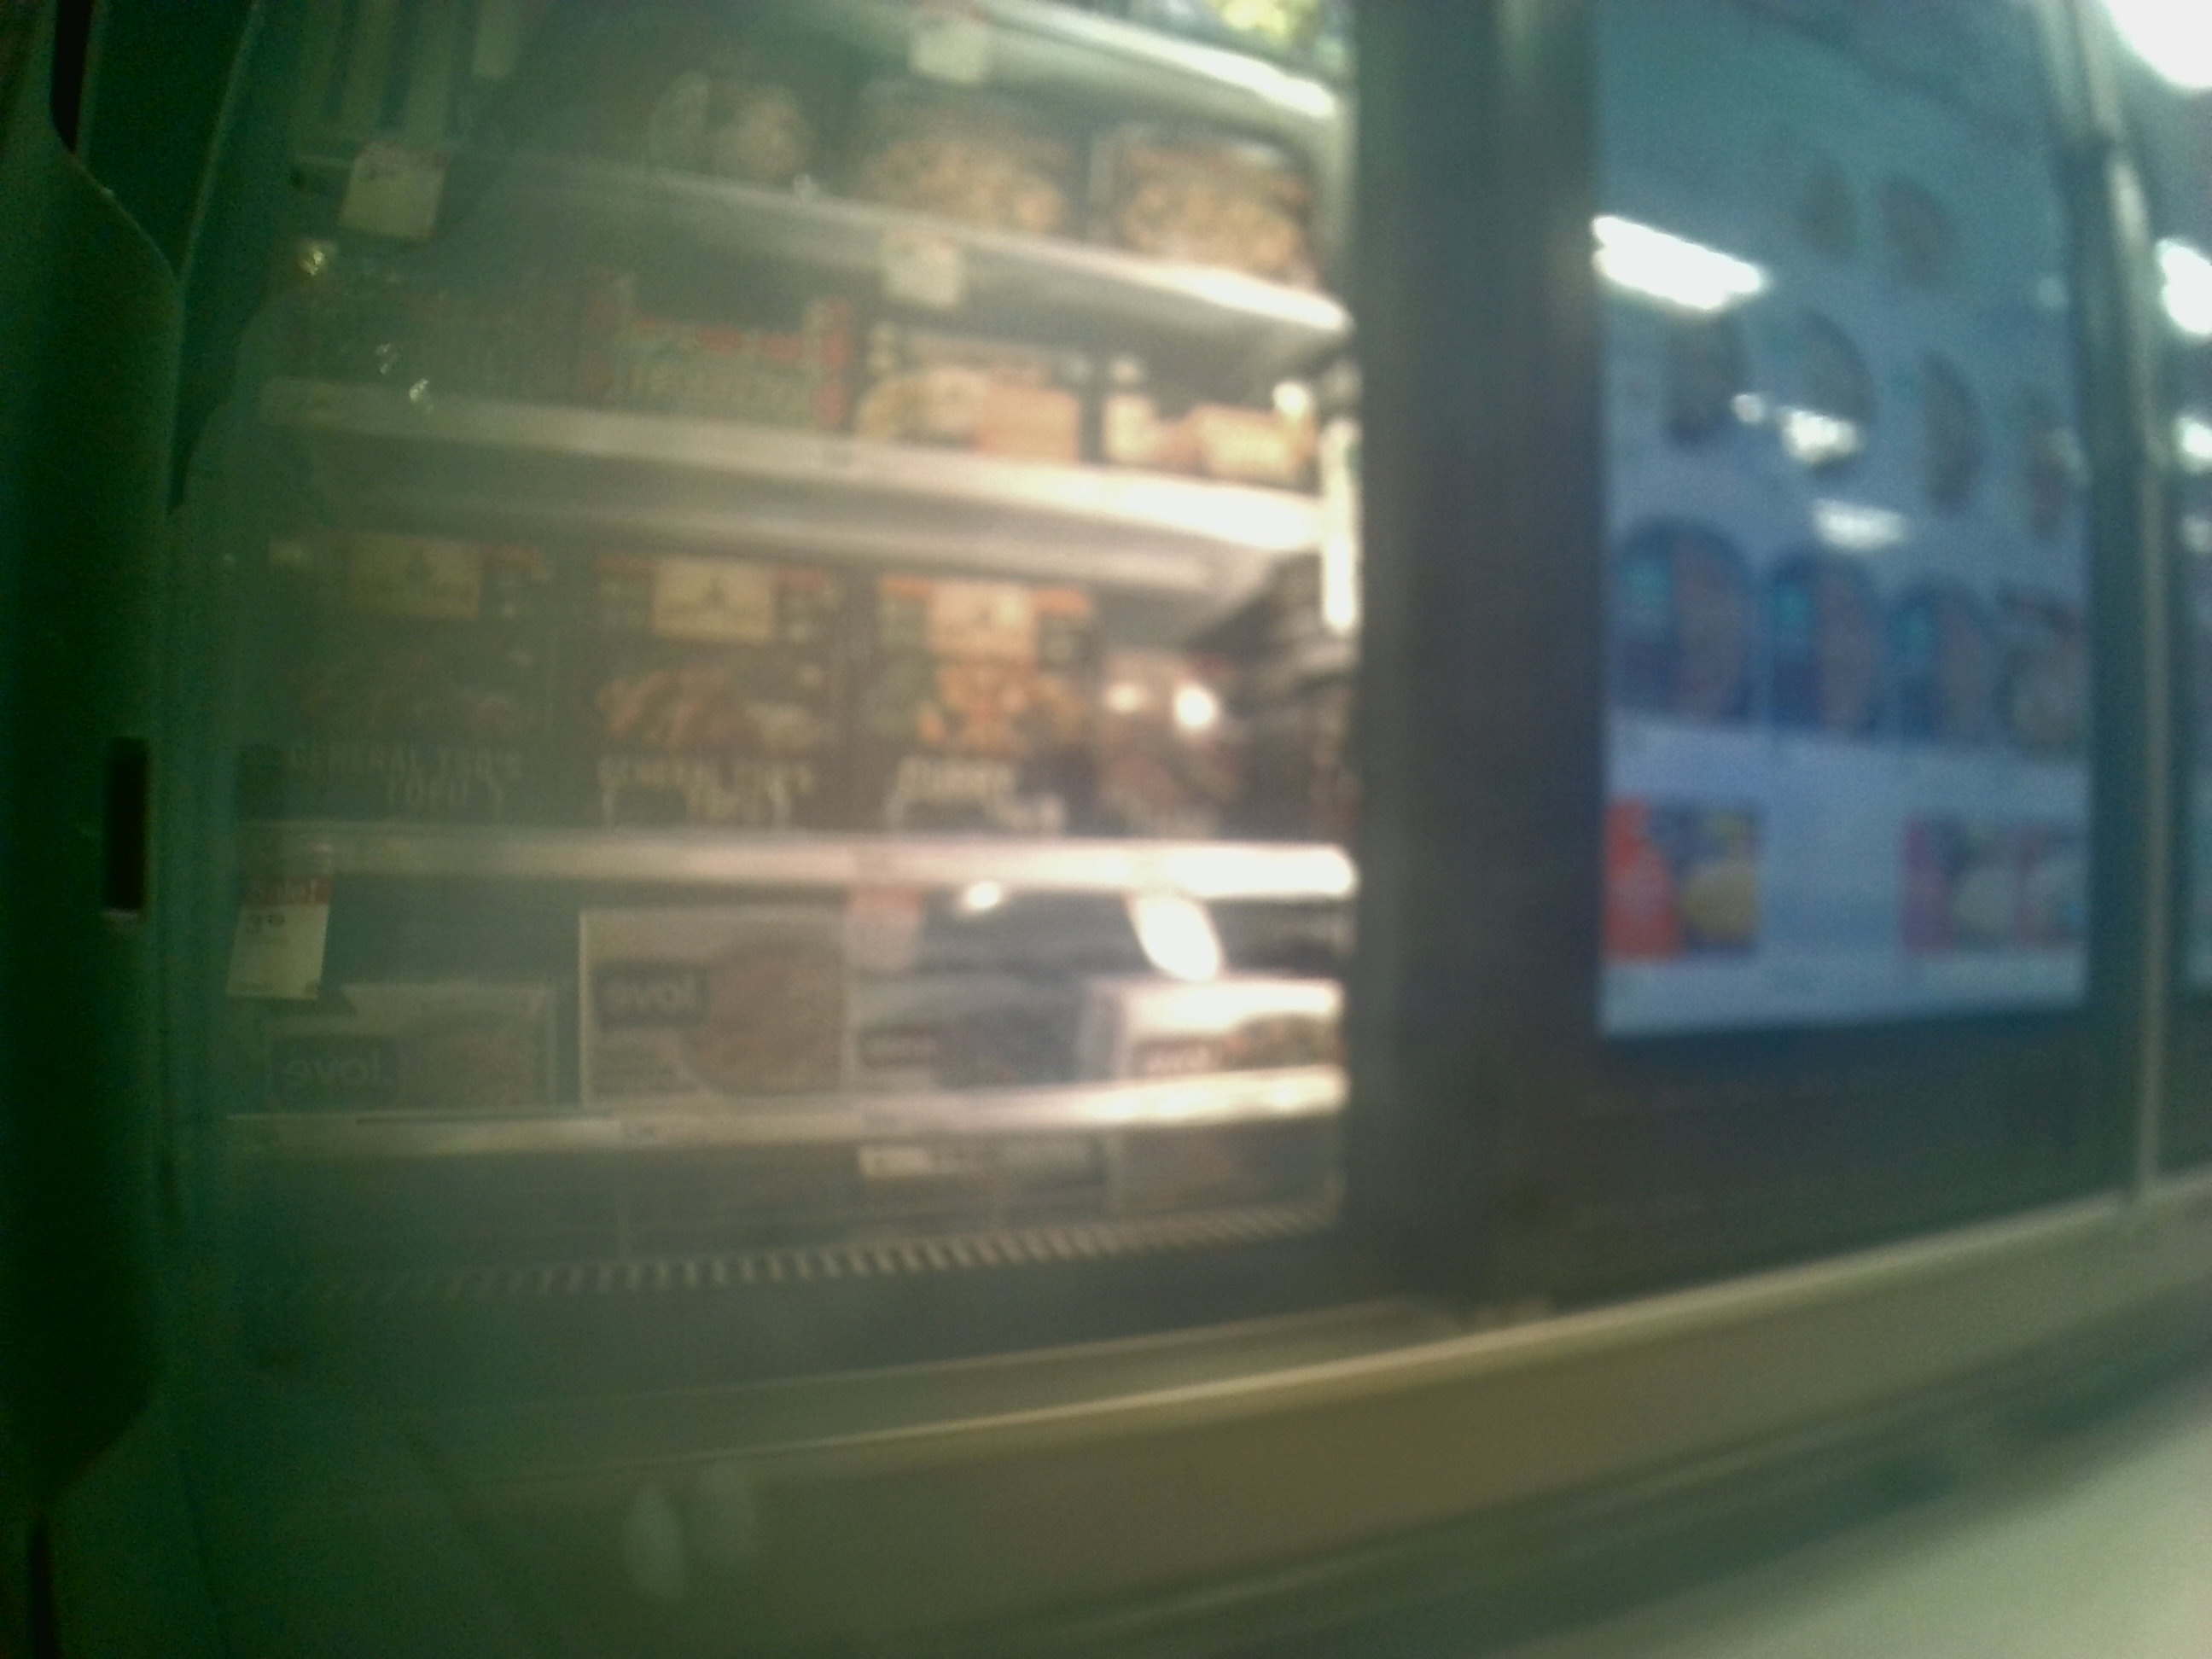frozen-food-shelf: (204, 511, 1374, 908)
